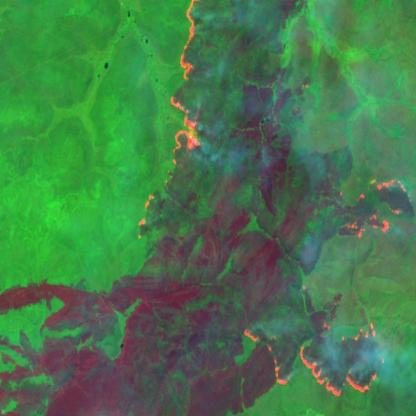fire: (135, 0, 207, 246), (239, 314, 386, 401), (330, 170, 416, 243)
